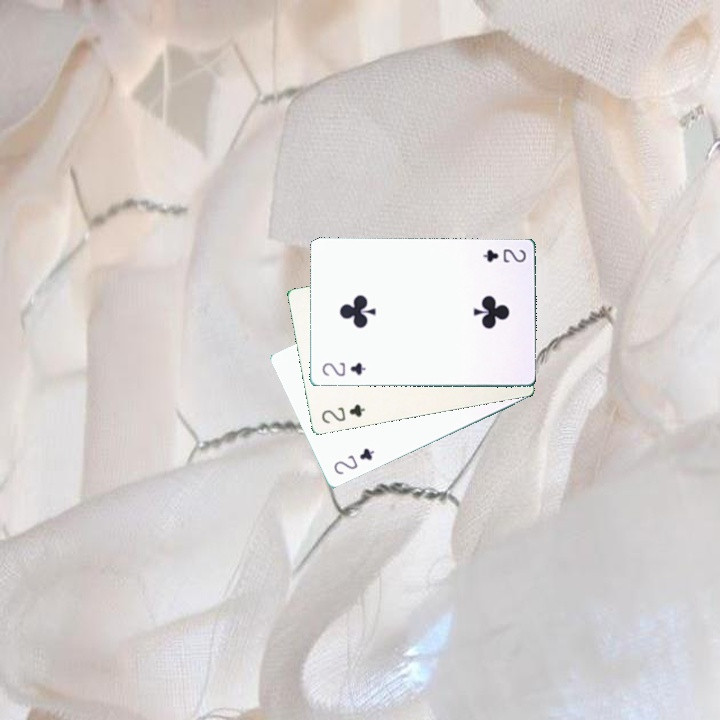2c: (330, 444, 377, 477), (317, 400, 368, 426), (318, 358, 368, 379), (479, 245, 528, 265)
